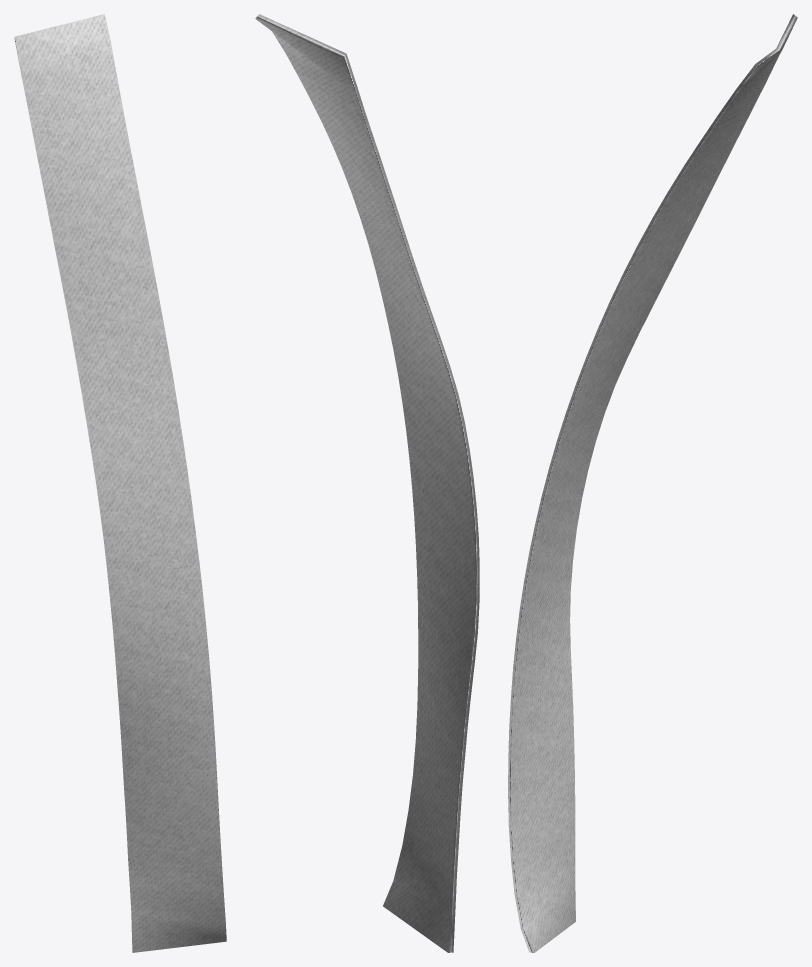
The model's file is Jac_Pocket_LEFT_V1_Dop.glb.
3 views of the same model, side by side, from view 1: azimuth 30°, elevation 25°; view 2: azimuth 150°, elevation 25°; view 3: azimuth 270°, elevation 25° (orthographic). The views are drawn at different scales.
Visible parts, largest first — view 1: Jac_Pocket_LEFT_V1_Dop1; view 2: Jac_Pocket_LEFT_V1_Dop1; view 3: Jac_Pocket_LEFT_V1_Dop1.
Part boxes in pixels (x1,y1,x2,y2): Jac_Pocket_LEFT_V1_Dop1: (14,14,226,952); Jac_Pocket_LEFT_V1_Dop1: (255,14,479,952); Jac_Pocket_LEFT_V1_Dop1: (508,14,797,952).
Bounding box in the file's own units: 0.032 × 0.26 × 0.0751.
1 material, 1 textured.
